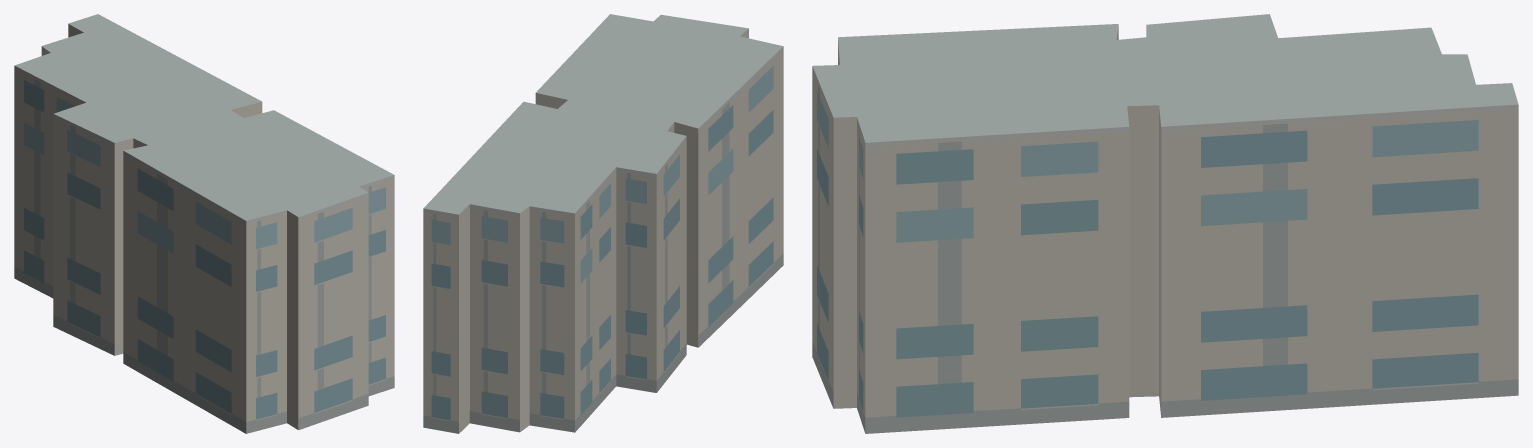
The model's file is survey-upis-32648449.glb.
3 renders of one model, left to right at view 1: azimuth 30°, elevation 25°; view 2: azimuth 150°, elevation 25°; view 3: azimuth 270°, elevation 25°, orthographic. The views are drawn at different scales.
Visible parts, largest first — view 1: survey-upis-32648449.tmp; view 2: survey-upis-32648449.tmp; view 3: survey-upis-32648449.tmp.
Part boxes in pixels (x1,y1,x2,y2): survey-upis-32648449.tmp: (14, 14, 394, 433); survey-upis-32648449.tmp: (423, 14, 783, 433); survey-upis-32648449.tmp: (812, 14, 1518, 433).
Bounding box in the file's own units: 14.48 × 15.25 × 33.54.
